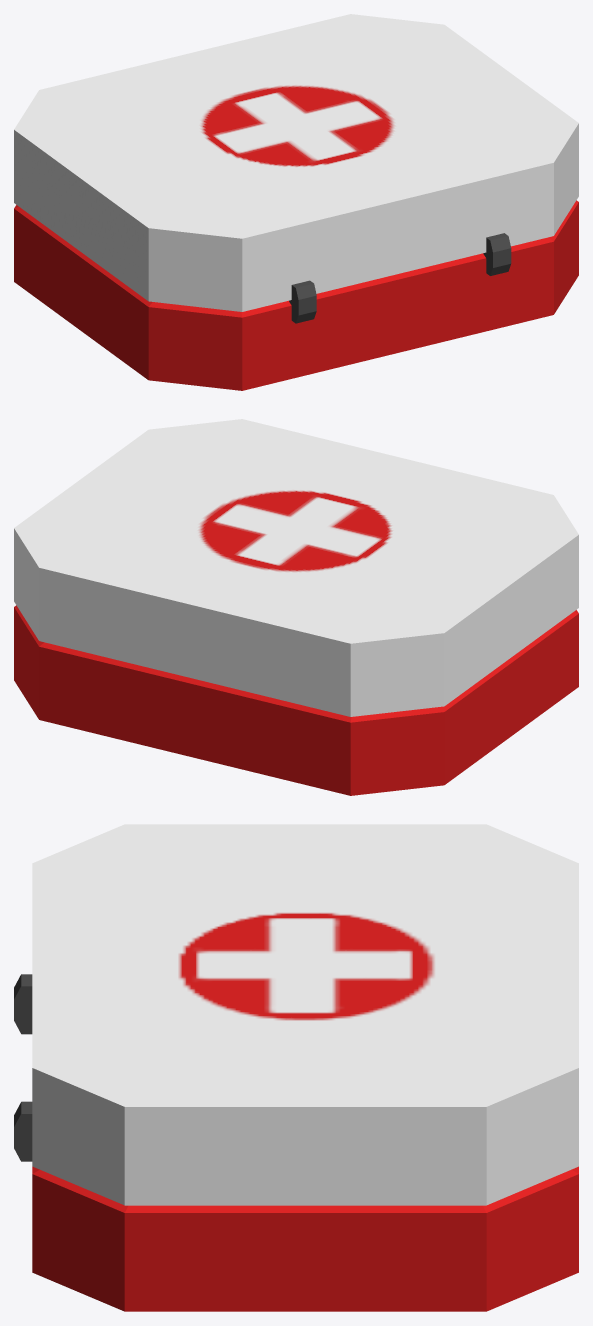
Rendered from Trousse_Pharmacie.FBX.
3 views of the same model, one above another, from view 1: azimuth 30°, elevation 25°; view 2: azimuth 150°, elevation 25°; view 3: azimuth 270°, elevation 25° (orthographic). The views are drawn at different scales.
Visible parts, largest first — view 1: Trousse_Pharmacie; view 2: Trousse_Pharmacie; view 3: Trousse_Pharmacie.
Part boxes in pixels (x1,y1,x2,y2): Trousse_Pharmacie: [14, 14, 578, 390]; Trousse_Pharmacie: [14, 419, 578, 795]; Trousse_Pharmacie: [14, 824, 578, 1311].
Bounding box in the file's own units: 44.27 × 14.96 × 37.41.
Materials: 1 (1 with a texture image).
